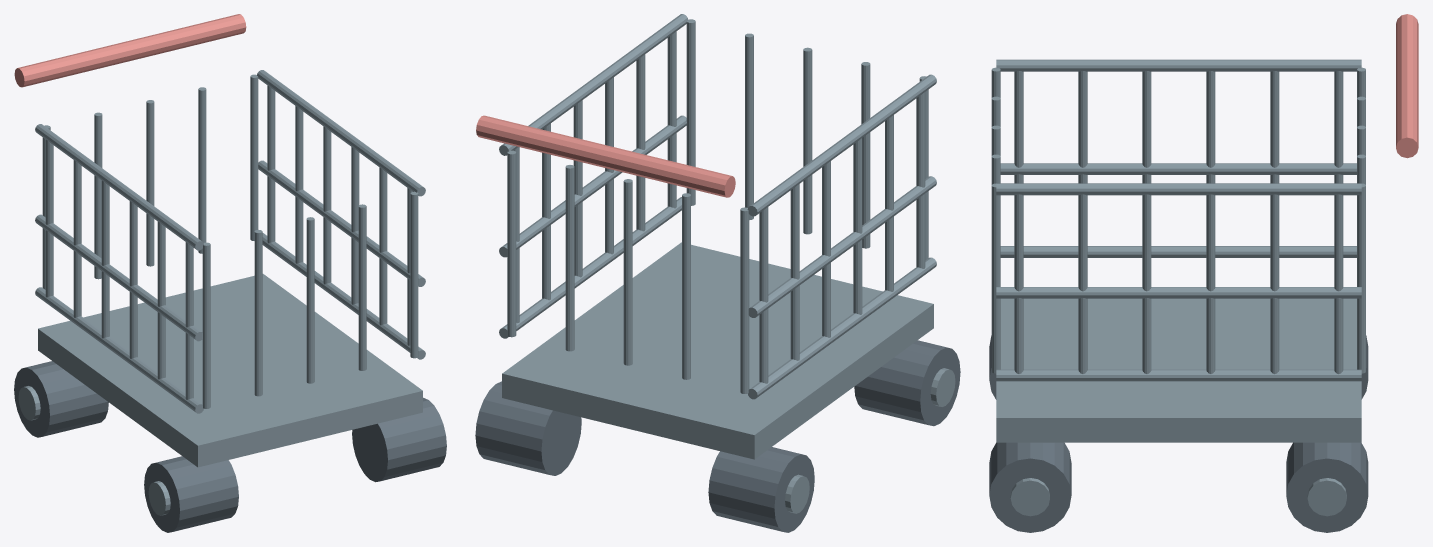
File: shopping_cart.glb
3 renders of one model, left to right at view 1: azimuth 30°, elevation 25°; view 2: azimuth 150°, elevation 25°; view 3: azimuth 270°, elevation 25°, orthographic. The views are drawn at different scales.
Visible parts, largest first — view 1: shopping_cart_008, shopping_cart_004, shopping_cart_000, shopping_cart_037, shopping_cart_002, shopping_cart_017, shopping_cart_026, shopping_cart_015, shopping_cart_016, shopping_cart_025, shopping_cart_024, shopping_cart_029 (+23 smaller); view 2: shopping_cart_008, shopping_cart_006, shopping_cart_002, shopping_cart_037, shopping_cart_000, shopping_cart_017, shopping_cart_015, shopping_cart_016, shopping_cart_026, shopping_cart_024, shopping_cart_025, shopping_cart_036 (+23 smaller); view 3: shopping_cart_008, shopping_cart_006, shopping_cart_004, shopping_cart_026, shopping_cart_017, shopping_cart_024, shopping_cart_025, shopping_cart_016, shopping_cart_015, shopping_cart_037, shopping_cart_031, shopping_cart_022 (+14 smaller).
Part boxes in pixels (x1,y1,x2,y2): shopping_cart_008: (38,274,422,467); shopping_cart_004: (352,397,446,482); shopping_cart_000: (144,456,238,532); shopping_cart_037: (14,14,246,87); shopping_cart_002: (14,361,108,437); shopping_cart_017: (35,124,203,250); shopping_cart_026: (257,70,425,196); shopping_cart_015: (35,287,203,413); shopping_cart_016: (35,214,202,341); shopping_cart_025: (258,160,425,286); shopping_cart_024: (262,233,425,359); shopping_cart_029: (306,217,314,383); shopping_cart_008: (502,242,933,459); shopping_cart_006: (475,381,581,475); shopping_cart_002: (708,447,814,532); shopping_cart_037: (476,115,735,197); shopping_cart_000: (854,340,960,426); shopping_cart_017: (747,74,936,216); shopping_cart_015: (748,257,936,399); shopping_cart_016: (748,176,936,317); shopping_cart_026: (499,14,688,155); shopping_cart_024: (499,197,681,338); shopping_cart_025: (499,115,686,257); shopping_cart_036: (507,150,516,337); shopping_cart_008: (996,298,1361,442); shopping_cart_006: (1286,442,1368,532); shopping_cart_004: (989,442,1071,532); shopping_cart_026: (996,183,1361,195); shopping_cart_017: (996,59,1361,71); shopping_cart_024: (996,369,1361,381); shopping_cart_025: (996,287,1361,298); shopping_cart_016: (1000,163,1356,174); shopping_cart_015: (1000,246,1356,257); shopping_cart_037: (1396,14,1418,158); shopping_cart_031: (991,183,1000,373); shopping_cart_022: (1270,194,1279,374).
Bounding box in the file's own units: 0.798 × 0.925 × 0.94.
